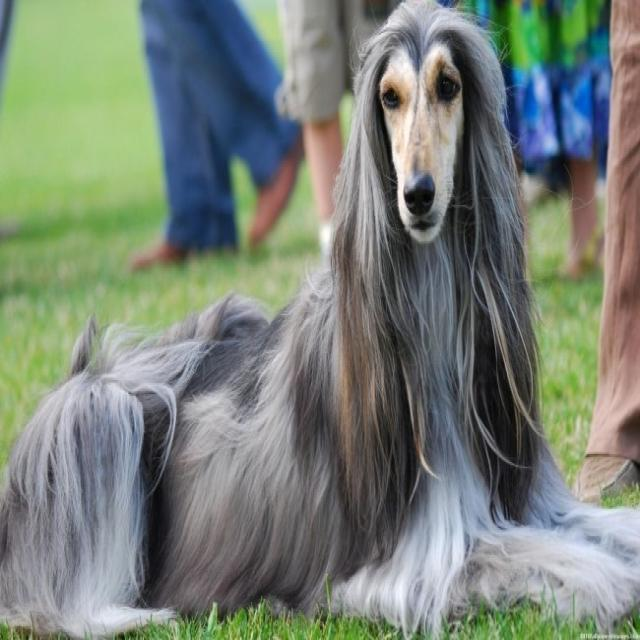dog: (16, 1, 633, 640)
